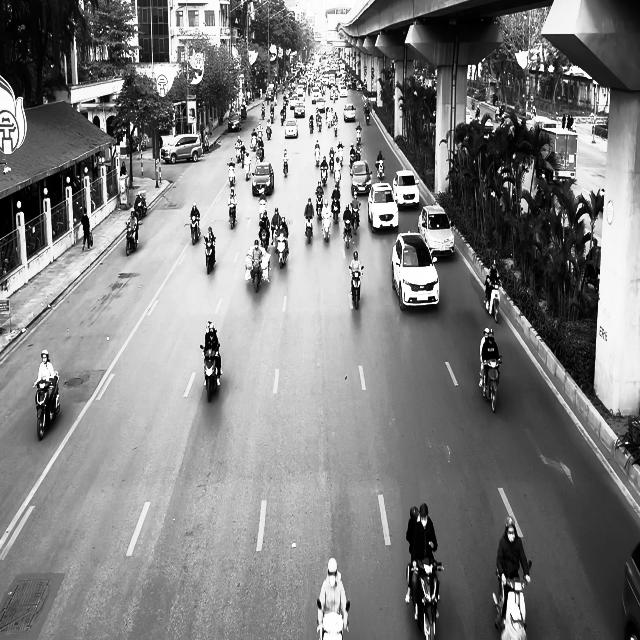car: (391, 231, 440, 311), (418, 205, 455, 257), (367, 182, 399, 232), (160, 134, 203, 164), (392, 170, 420, 208), (252, 162, 274, 196), (350, 160, 372, 194), (284, 118, 298, 138), (228, 112, 241, 132), (343, 103, 356, 122)
motorbike: (492, 560, 532, 639), (406, 558, 443, 640), (33, 372, 61, 440), (316, 598, 350, 640), (480, 356, 502, 413), (200, 343, 221, 402), (348, 266, 364, 310), (488, 280, 502, 323), (125, 220, 138, 256), (204, 236, 216, 274), (276, 233, 289, 268), (250, 258, 262, 292), (134, 190, 147, 218), (259, 220, 270, 251), (321, 213, 332, 242), (351, 203, 360, 235), (190, 216, 200, 244), (304, 216, 314, 243), (343, 218, 352, 248), (315, 192, 324, 219), (228, 203, 237, 229), (331, 198, 340, 224), (375, 158, 385, 180), (228, 163, 236, 189), (320, 163, 328, 185), (244, 157, 251, 180), (282, 155, 289, 177)
